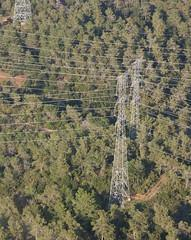power_tower: (110, 69, 130, 206)
